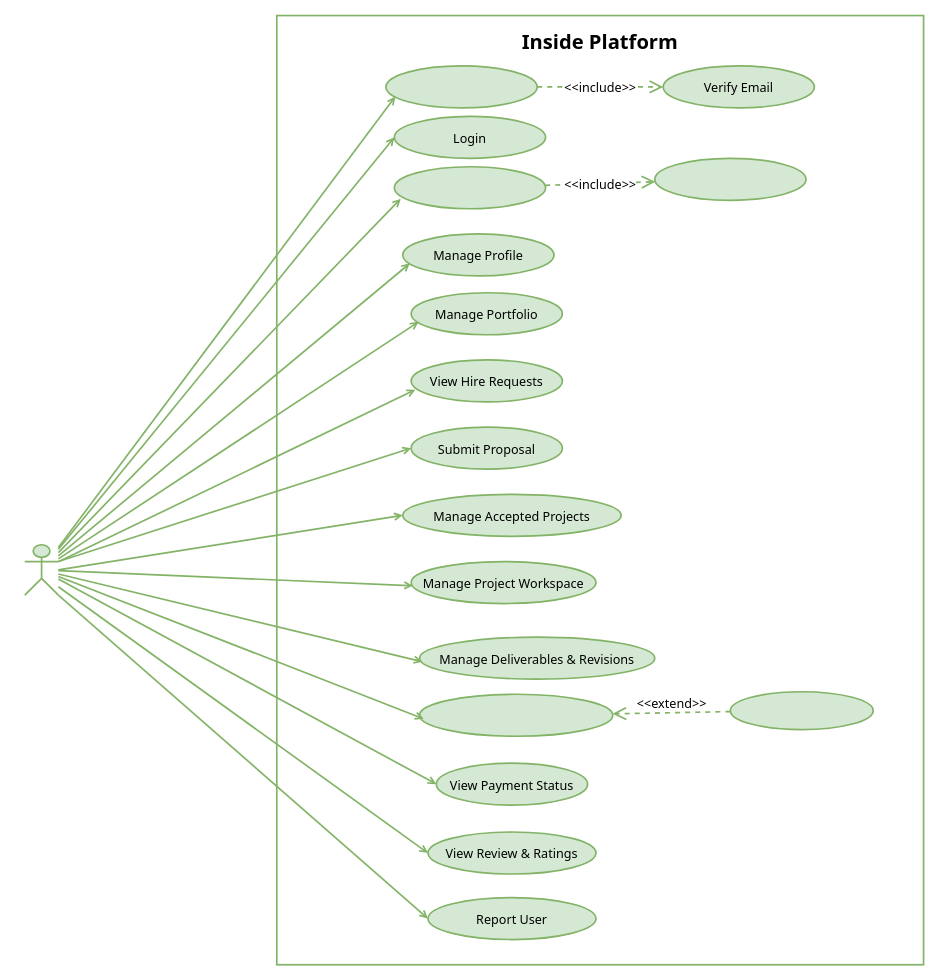
Image size: 938x979. Some labels were removed from this diagram. The shapes that lost their labels are listed below. From the top down, each one's centre as x and y in pixels, then its label:
At pixel 461 86: "Register".
At pixel 469 187: "Forgot Password".
At pixel 730 179: "Reset Password".
At pixel 41 569: "Designer".
At pixel 515 715: "Communication With Client".
At pixel 801 710: "Attach File".
